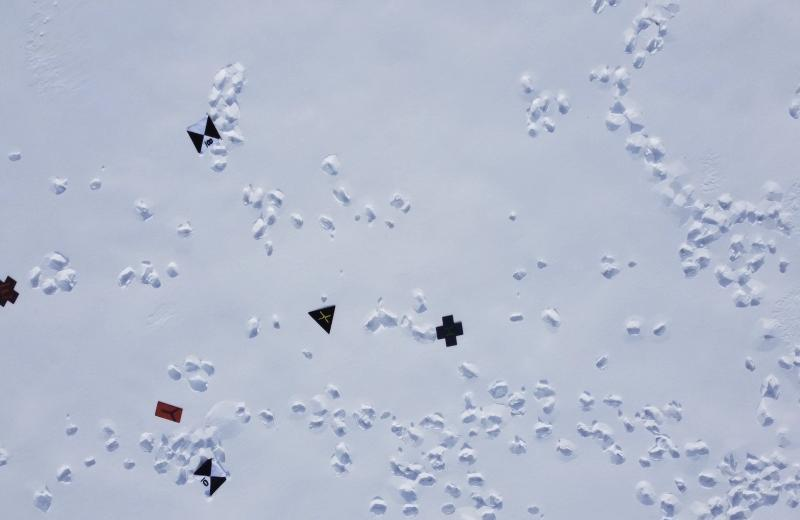Cross: (433, 311, 465, 350), (0, 274, 26, 309)
Rectangle: (152, 396, 185, 426)
Triangle: (304, 297, 339, 336)
